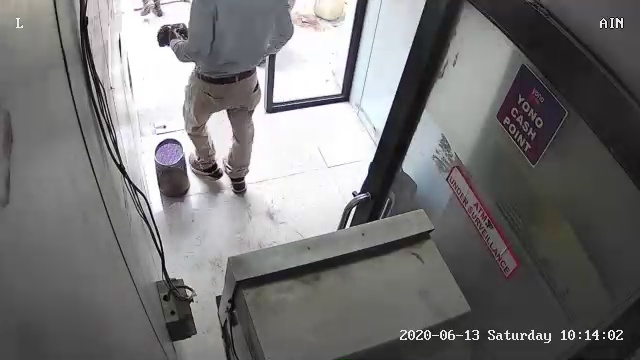open: (308, 2, 629, 350)
